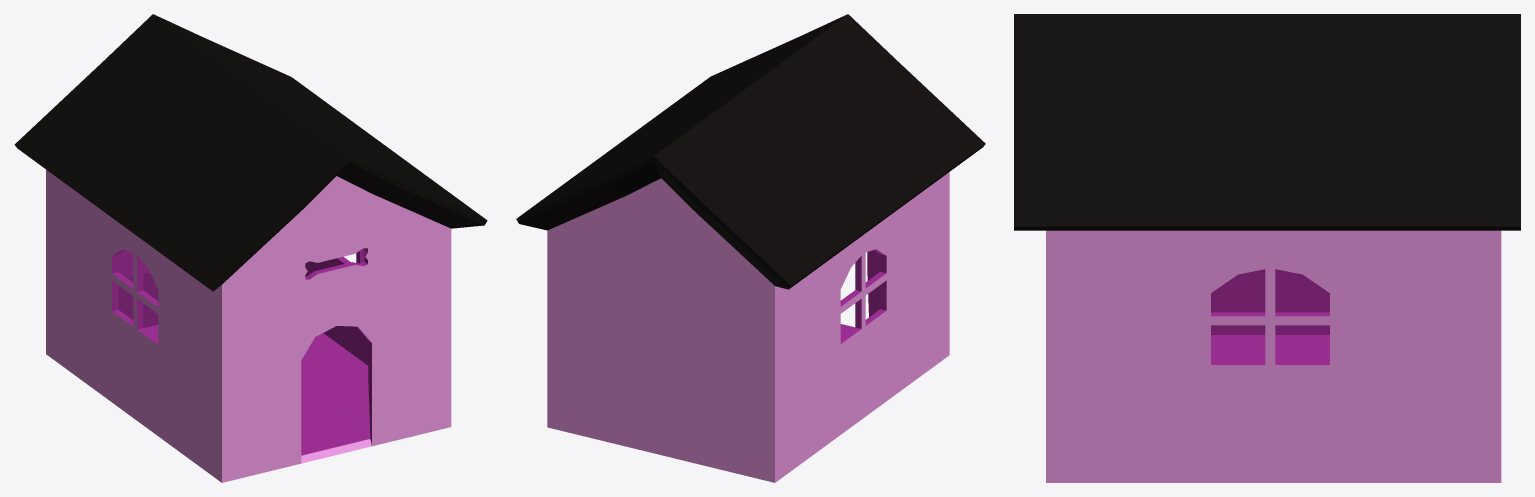
Rendered from doghouse.fbx.
3 renders of one model, left to right at view 1: azimuth 30°, elevation 25°; view 2: azimuth 150°, elevation 25°; view 3: azimuth 270°, elevation 25°, orthographic. The views are drawn at different scales.
Visible parts, largest first — view 1: Box001; view 2: Box001; view 3: Box001.
Boxes of the visible parts, x1,y1,x2,y2 form: Box001: (14,14,487,482); Box001: (516,14,985,482); Box001: (1014,14,1520,482).
Bounding box in the file's own units: 87.28 × 92.24 × 107.
